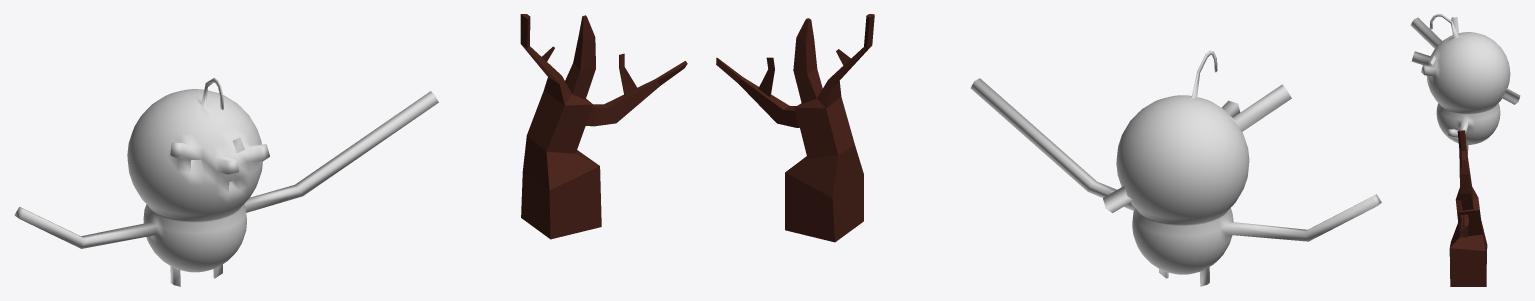
The model's file is keltree.glb.
The picture shows the model from 3 angles, left to right: view 1: azimuth 30°, elevation 25°; view 2: azimuth 150°, elevation 25°; view 3: azimuth 270°, elevation 25°; orthographic projection. The views are drawn at different scales.
Parts seen in each view (by area): view 1: Sphere, Cube.001; view 2: Sphere, Cube.001; view 3: Sphere, Cube.001.
Boxes of the visible parts, x1,y1,x2,y2 form: Sphere: (14, 78, 438, 286); Cube.001: (520, 14, 687, 239); Sphere: (970, 50, 1381, 286); Cube.001: (716, 14, 874, 242); Sphere: (1410, 14, 1520, 155); Cube.001: (1449, 130, 1487, 286).
Size of the model in its own units: 17.77 by 6.31 by 4.08.
